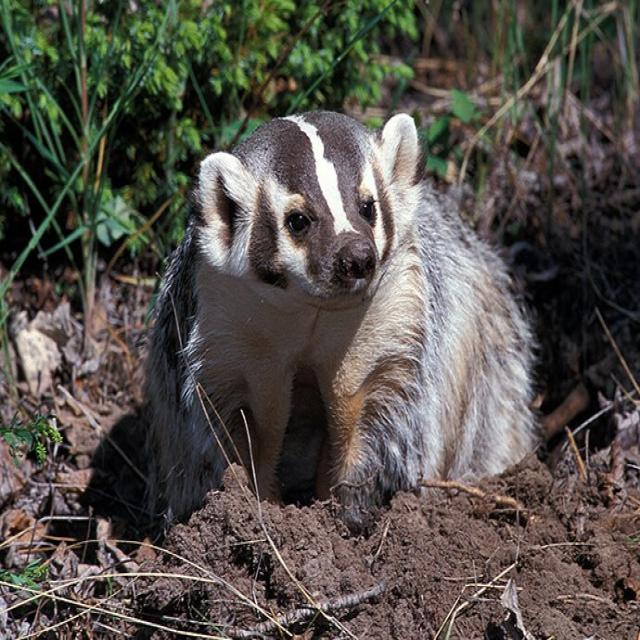Badger: (136, 98, 536, 492)
